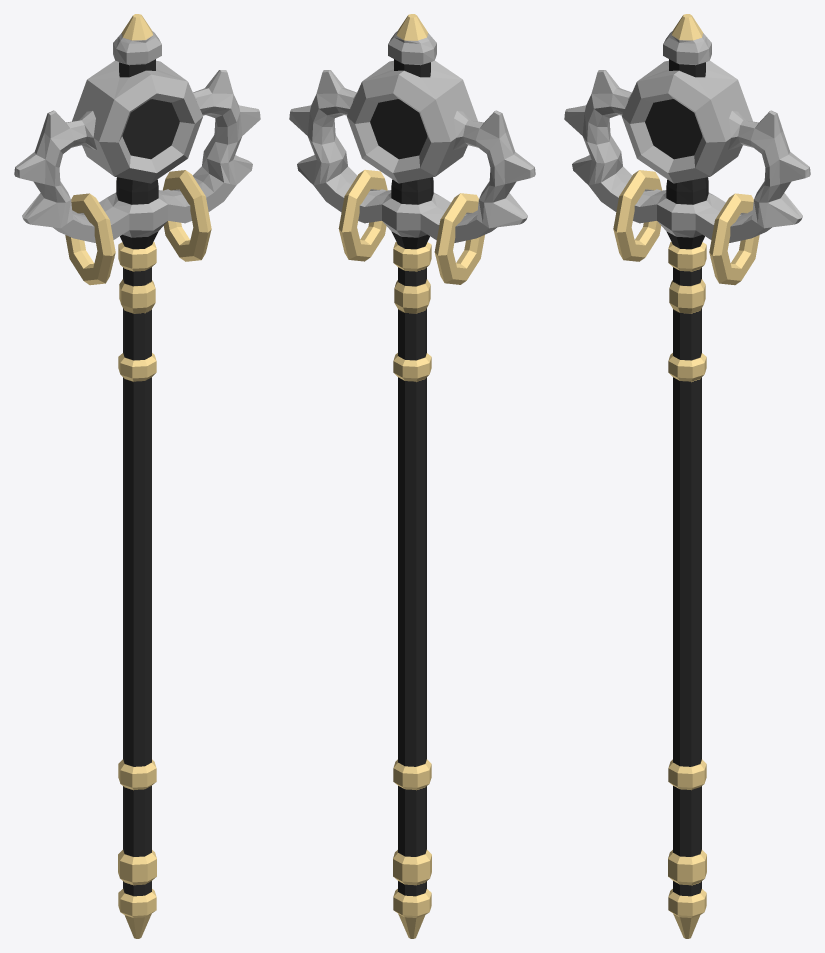
The model's file is Mithril Wand.fbx.
The picture shows the model from 3 angles, left to right: view 1: azimuth 30°, elevation 25°; view 2: azimuth 150°, elevation 25°; view 3: azimuth 330°, elevation 25°; orthographic projection.
Parts seen in each view (by area): view 1: Mithril_Wand; view 2: Mithril_Wand; view 3: Mithril_Wand.
Boxes of the visible parts, left/top/right/bottom form: Mithril_Wand: left=14, top=14, right=260, bottom=938; Mithril_Wand: left=289, top=14, right=535, bottom=938; Mithril_Wand: left=564, top=14, right=810, bottom=938.
Bounding box in the file's own units: 116 × 417 × 37.3.
